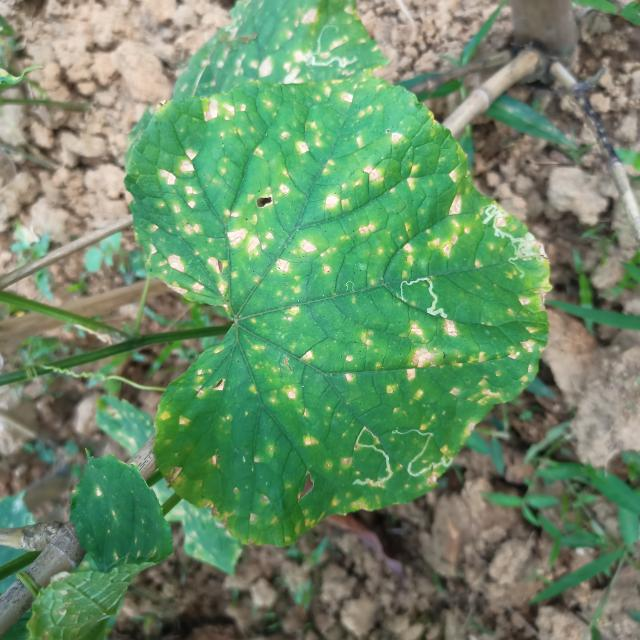disease_cucumber: (148, 86, 544, 525)
